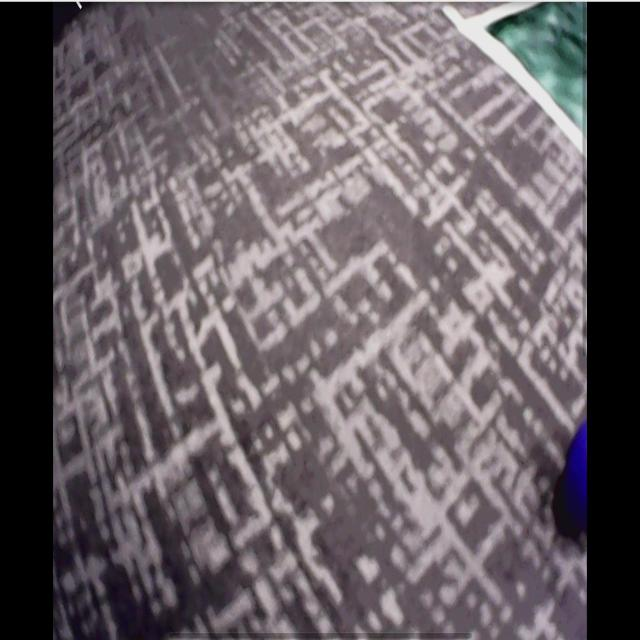ball: (570, 424, 591, 516)
